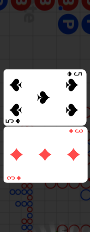3D: (68, 127, 85, 134)
5C: (66, 70, 83, 77)
